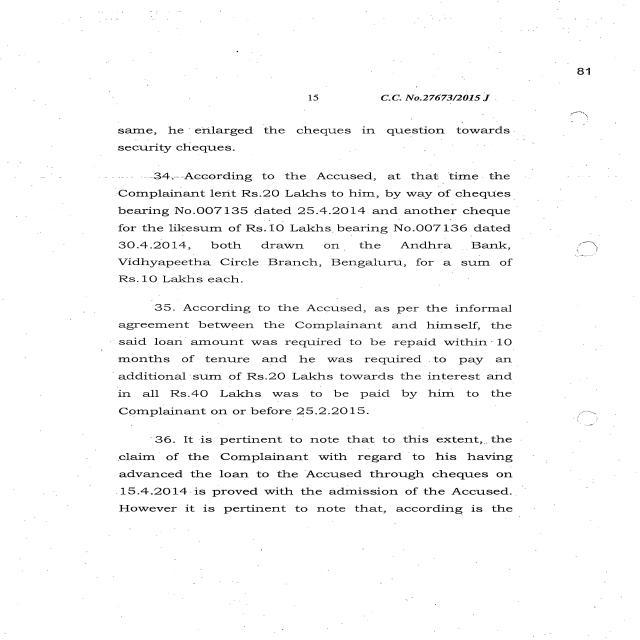page-number: (510, 26, 640, 105)
